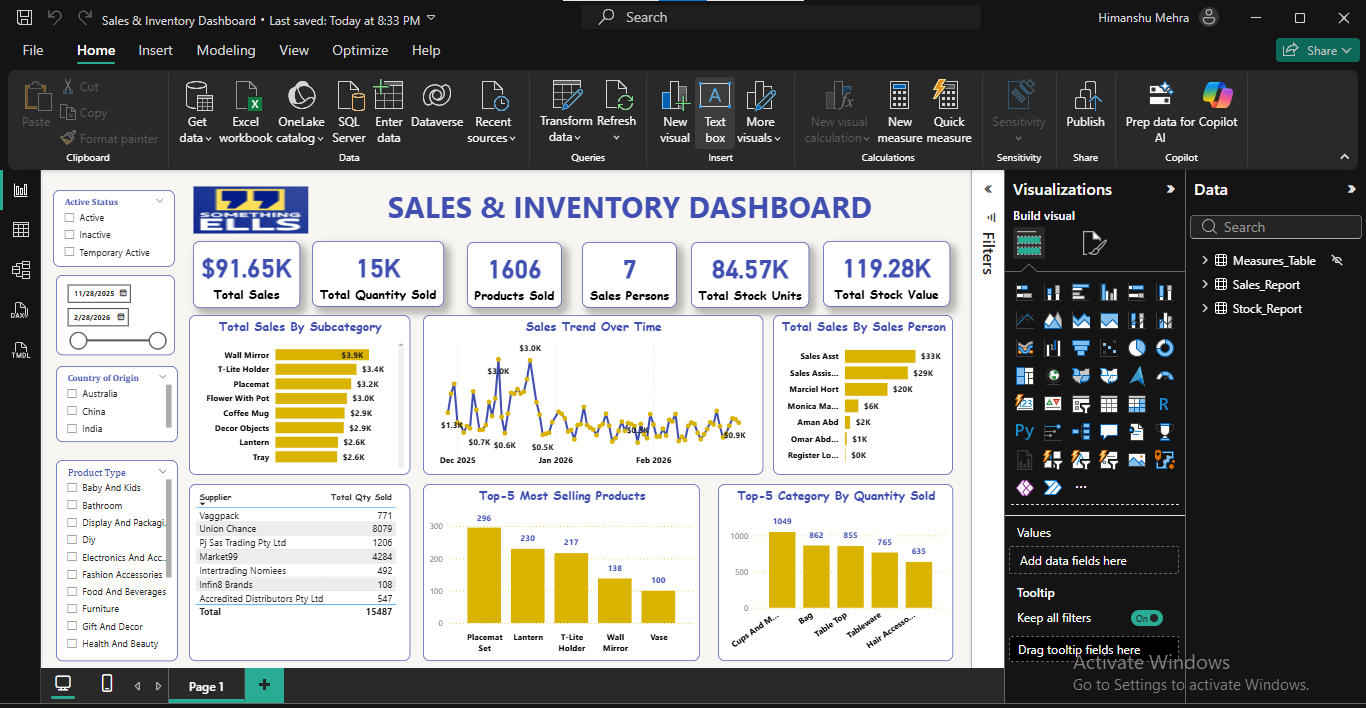

The dashboard page shown, as its layout file describes it:
{"tool":"powerbi","page":{"name":"Page 1","canvas":[1340,720],"ordinal":0},"visuals":[{"type":"card","fields":{"Values":["Measures_Table.Total_Sales"]},"box":[216.9,102.7,154.7,96.9],"z":0},{"type":"card","fields":{"Values":["Measures_Table.Total_Qty_Sold"]},"box":[388.9,102.7,190.8,95.4],"z":1000},{"type":"card","fields":{"Values":["Measures_Table.No_Of_Products_Sold"]},"box":[613,104.1,137.3,95.4],"z":2000},{"type":"card","fields":{"Values":["Measures_Table.Total_No_Of_Sales_Persons"]},"box":[779.3,104.1,137.3,95.4],"z":3000},{"type":"card","fields":{"Values":["Measures_Table.Total_Stock_Units"]},"box":[936.9,104.1,170.6,95.4],"z":4000},{"type":"card","fields":{"Values":["Measures_Table.Total_Stock_Value"]},"box":[1127.7,102.7,183.6,95.4],"z":5000},{"type":"clusteredBarChart","title":"Total Sales By Subcategory","fields":{"Y":["Measures_Table.Total_Sales"],"Category":["Sales_Report.Sub Category"]},"box":[211.1,209.6,319.5,231.3],"z":6000},{"type":"clusteredBarChart","title":"Total Sales By Sales Person","fields":{"Category":["Sales_Report.Sales Person"],"Y":["Measures_Table.Total_Sales"]},"box":[1055.4,209.6,260.2,231.3],"z":7000},{"type":"lineChart","title":"Sales Trend Over Time","fields":{"Category":["Sales_Report.Date Created"],"Y":["Measures_Table.Total_Sales"]},"box":[549.4,209.6,491.6,231.3],"z":8000},{"type":"tableEx","title":"Total Sales By Product Type","fields":{"Values":["Sales_Report.Supplier","Measures_Table.Total_Qty_Sold"]},"box":[211.1,454,319.5,255.9],"z":9000},{"type":"lineStackedColumnComboChart","title":"Top-5 Most Selling Products","fields":{"Y":["Measures_Table.Total_Qty_Sold"],"Category":["Sales_Report.Description"]},"box":[549.4,454,400.5,255.9],"z":10000},{"type":"lineStackedColumnComboChart","title":"Top-5 Category By Quantity Sold","fields":{"Category":["Sales_Report.Category"],"Y":["Measures_Table.Total_Qty_Sold"]},"box":[975.9,454,339.8,255.9],"z":11000},{"type":"slicer","title":"Total Sales By Product Type","fields":{"Values":["Sales_Report.Country of Origin"]},"box":[18.8,283.4,176.4,109.9],"z":12000},{"type":"slicer","title":"Total Sales By Product Type","fields":{"Values":["Sales_Report.Product Type"]},"box":[18.8,419.3,176.4,290.6],"z":13000},{"type":"slicer","title":"Total Sales By Product Type","fields":{"Values":["Sales_Report.Date Created"]},"box":[18.8,151.8,172,115.7],"z":14000},{"type":"image","box":[212.5,18.8,176.4,78.1],"z":15000},{"type":"textbox","box":[400.5,18.8,896.4,66.5],"z":16000},{"type":"slicer","title":"Total Sales By Product Type","fields":{"Values":["Sales_Report.Active Status"]},"box":[14.5,28.9,176.4,111.3],"z":17000}]}

Visuals, with their boxes on the page's 1340x720 design canvas (x1, y1, x2, y2). These are canvas units, not pixel positions in the 1366x708 screenshot, which may show the page scaled, cropped or inside an application window:
card - Measures_Table.Total_Sales: Rect(217, 103, 372, 200)
card - Measures_Table.Total_Qty_Sold: Rect(389, 103, 580, 198)
card - Measures_Table.No_Of_Products_Sold: Rect(613, 104, 750, 200)
card - Measures_Table.Total_No_Of_Sales_Persons: Rect(779, 104, 917, 200)
card - Measures_Table.Total_Stock_Units: Rect(937, 104, 1108, 200)
card - Measures_Table.Total_Stock_Value: Rect(1128, 103, 1311, 198)
"Total Sales By Subcategory" clusteredBarChart: Rect(211, 210, 531, 441)
"Total Sales By Sales Person" clusteredBarChart: Rect(1055, 210, 1316, 441)
"Sales Trend Over Time" lineChart: Rect(549, 210, 1041, 441)
"Total Sales By Product Type" tableEx: Rect(211, 454, 531, 710)
"Top-5 Most Selling Products" lineStackedColumnComboChart: Rect(549, 454, 950, 710)
"Top-5 Category By Quantity Sold" lineStackedColumnComboChart: Rect(976, 454, 1316, 710)
"Total Sales By Product Type" slicer: Rect(19, 283, 195, 393)
"Total Sales By Product Type" slicer: Rect(19, 419, 195, 710)
"Total Sales By Product Type" slicer: Rect(19, 152, 191, 268)
image: Rect(212, 19, 389, 97)
textbox: Rect(400, 19, 1297, 85)
"Total Sales By Product Type" slicer: Rect(14, 29, 191, 140)
